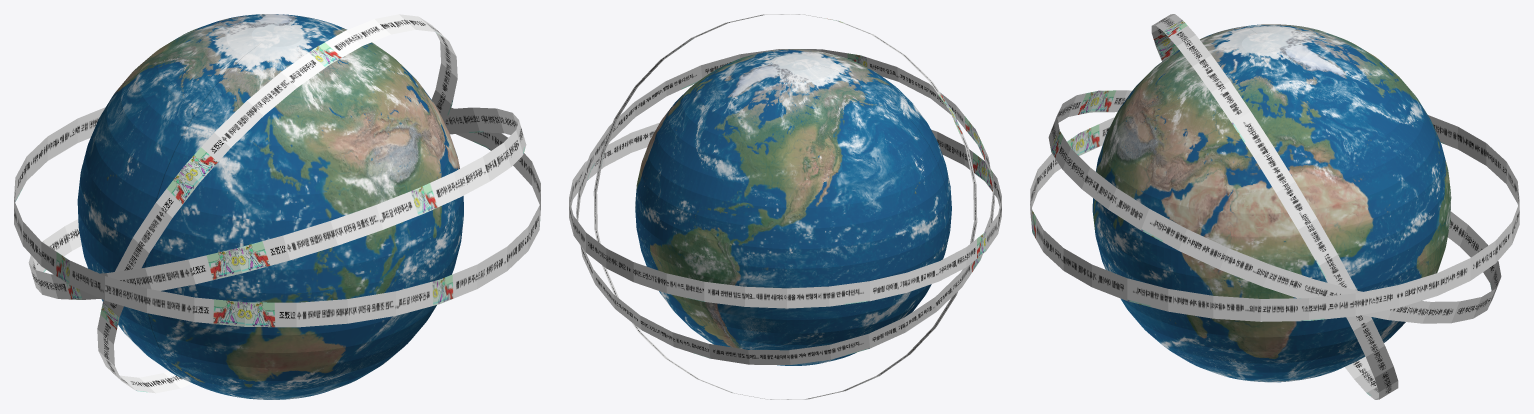
File: meme6.glb
3 renders of one model, left to right at view 1: azimuth 30°, elevation 25°; view 2: azimuth 150°, elevation 25°; view 3: azimuth 270°, elevation 25°, orthographic. The views are drawn at different scales.
Parts seen in each view (by area): view 1: earth, Cylinder.014, Cylinder.015, Cylinder.016; view 2: earth, Cylinder.014, Cylinder.015, Cylinder.016; view 3: earth, Cylinder.014, Cylinder.015, Cylinder.016.
Part boxes in pixels (left/top/right/bottom): earth: left=77, top=14, right=463, bottom=399; Cylinder.014: left=14, top=107, right=540, bottom=327; Cylinder.015: left=28, top=107, right=526, bottom=299; Cylinder.016: left=97, top=14, right=457, bottom=393; earth: left=635, top=49, right=951, bottom=365; Cylinder.014: left=569, top=122, right=1001, bottom=308; Cylinder.015: left=576, top=49, right=994, bottom=364; Cylinder.016: left=593, top=14, right=977, bottom=399; earth: left=1092, top=24, right=1451, bottom=382; Cylinder.014: left=1030, top=115, right=1519, bottom=321; Cylinder.015: left=1048, top=90, right=1501, bottom=323; Cylinder.016: left=1151, top=14, right=1398, bottom=399.
Size of the model in its own units: 1.26 by 1.04 by 1.26.
Materials: 4 (4 with a texture image).
